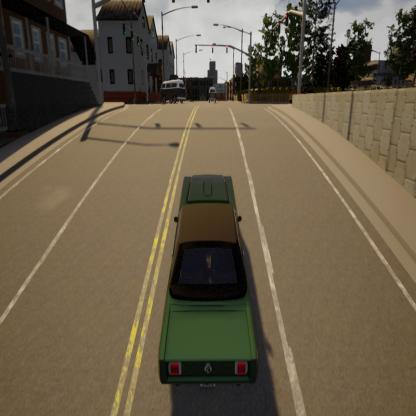Cars: (158, 171, 262, 399), (163, 78, 185, 104), (207, 83, 218, 105)
